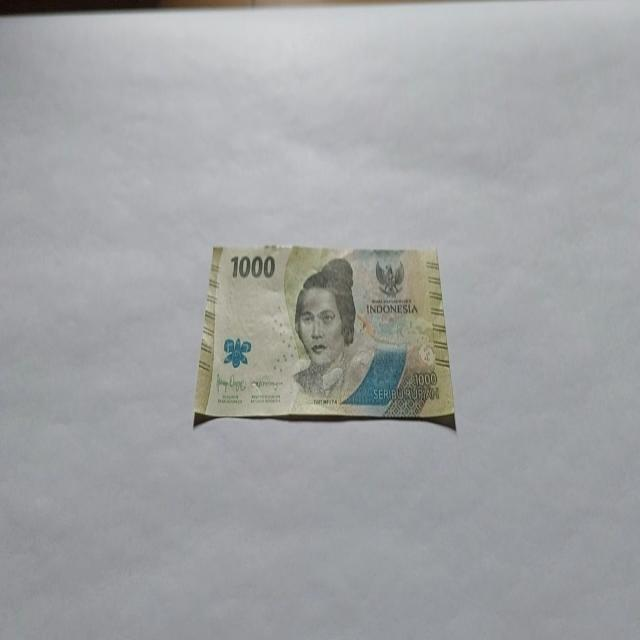seribu rupiah kertas: (192, 244, 456, 431)
